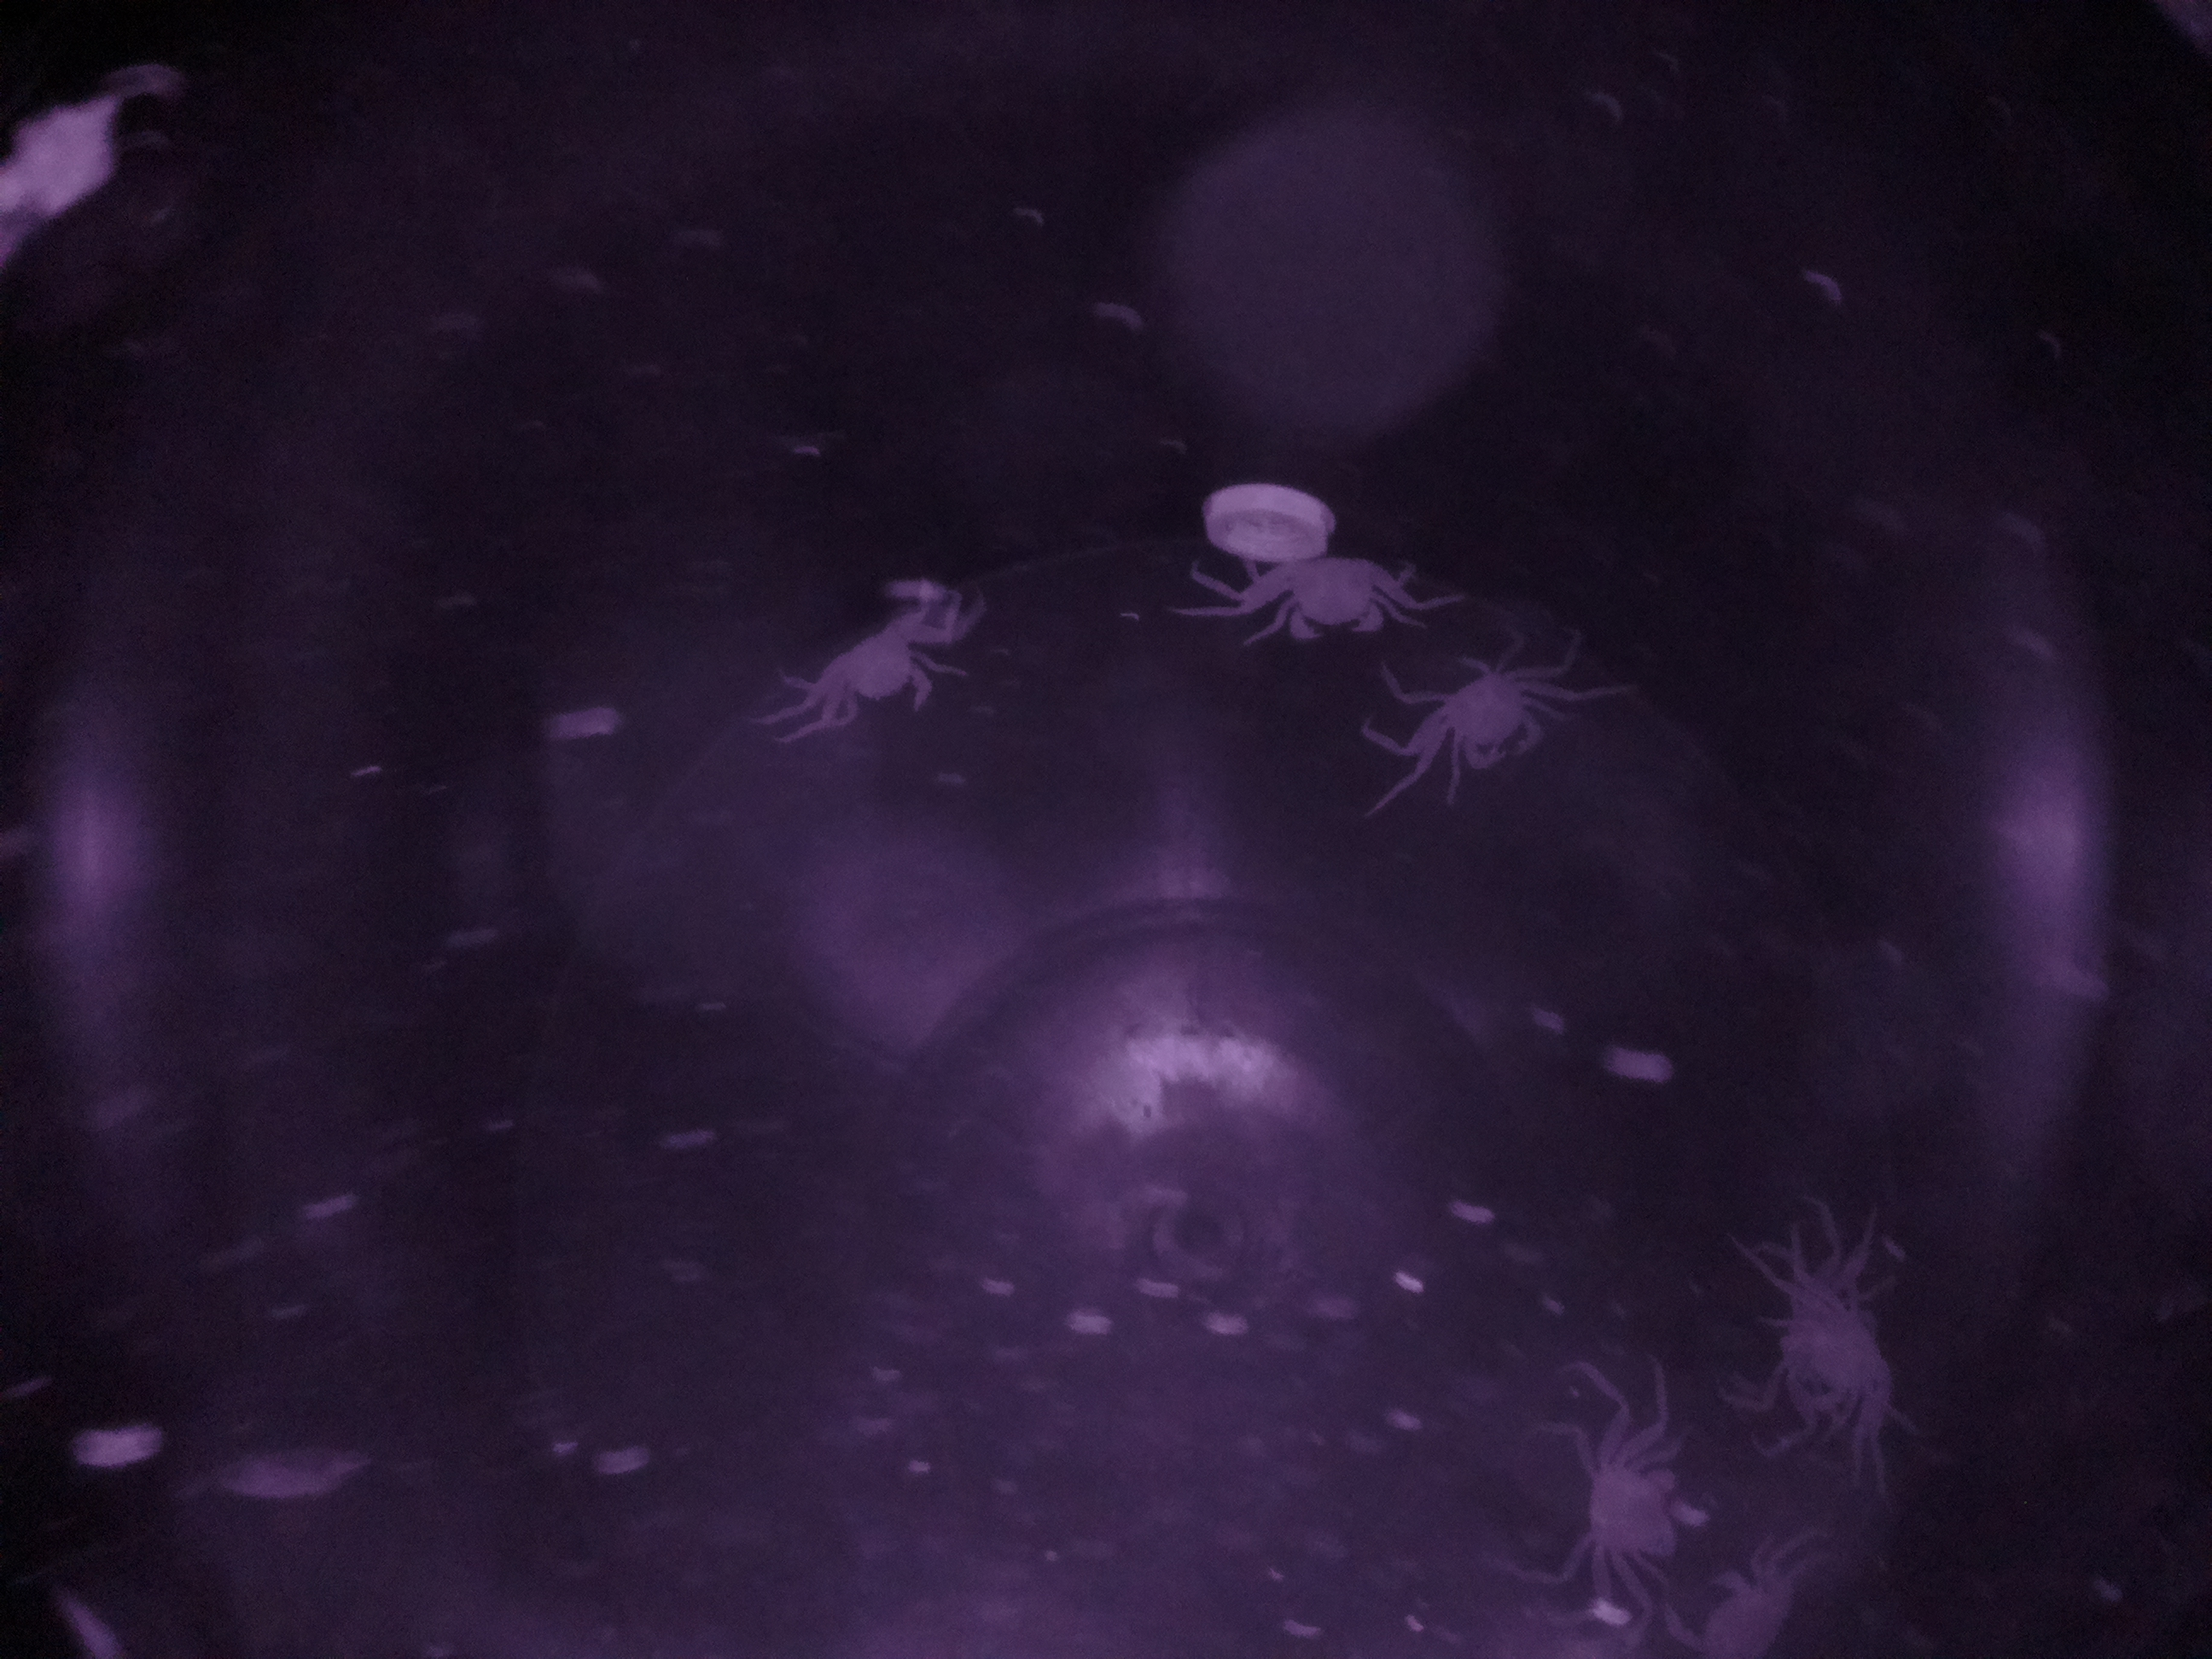Crab: (1562, 1399, 1702, 1595), (1237, 521, 1425, 664), (1395, 652, 1587, 782), (808, 599, 956, 720)
